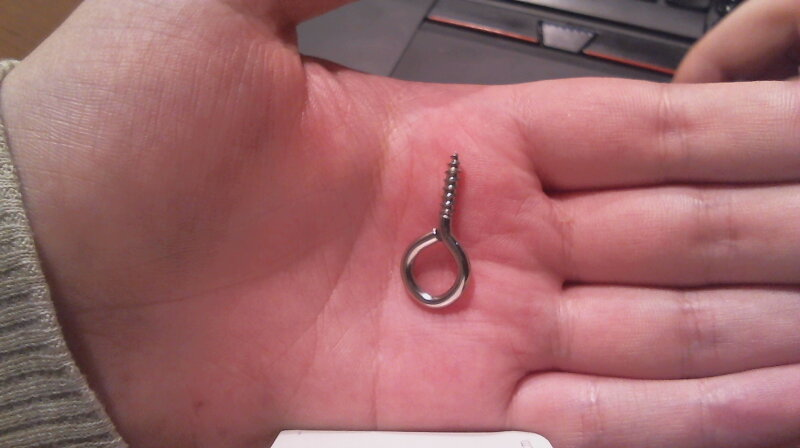O001: (394, 150, 477, 314)
